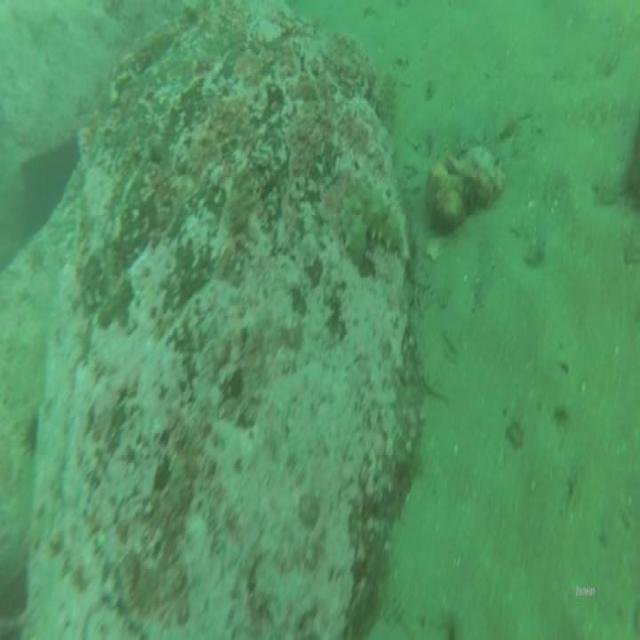holothurian: (340, 183, 406, 264)
